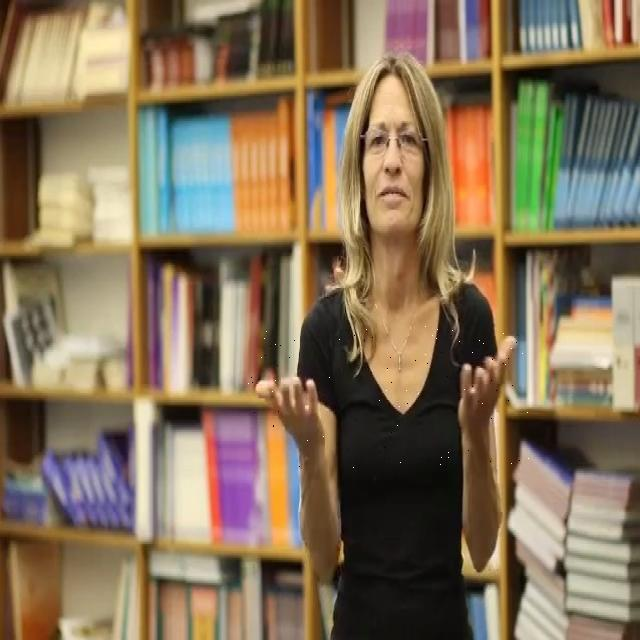what: (248, 326, 534, 470)
